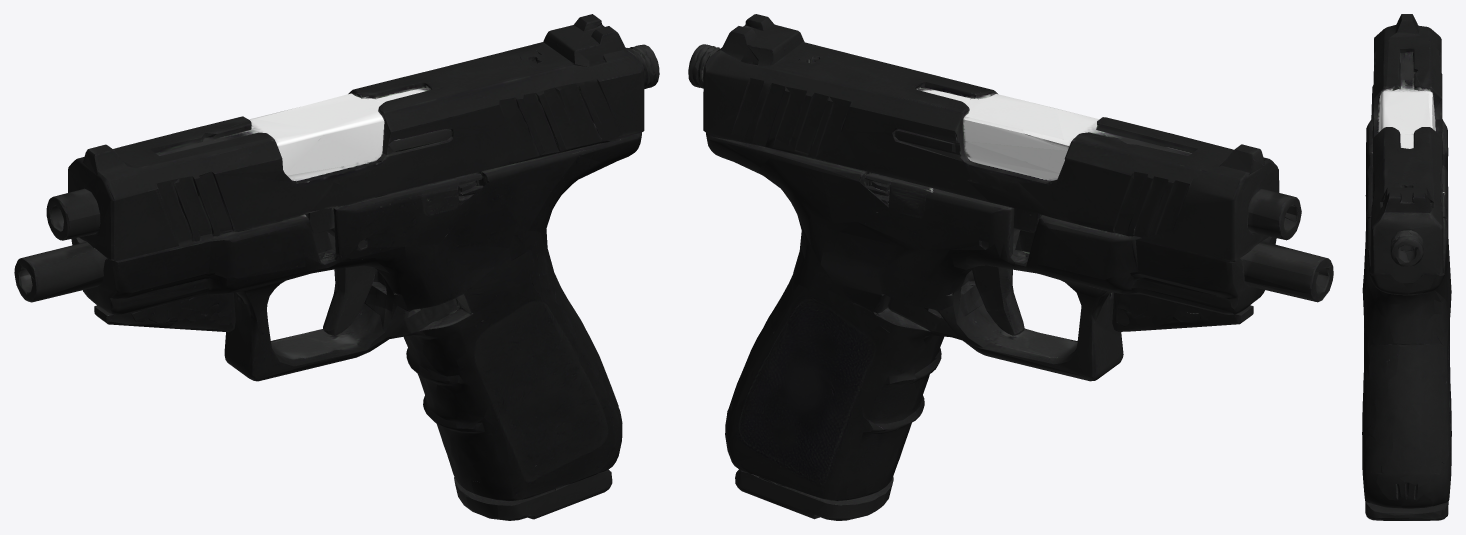
3 renders of one model, left to right at view 1: azimuth 30°, elevation 25°; view 2: azimuth 150°, elevation 25°; view 3: azimuth 270°, elevation 25°, orthographic. The views are drawn at different scales.
Bounding box in the file's own units: 1.9 × 1.33 × 0.3173.
1 material, 1 textured.
